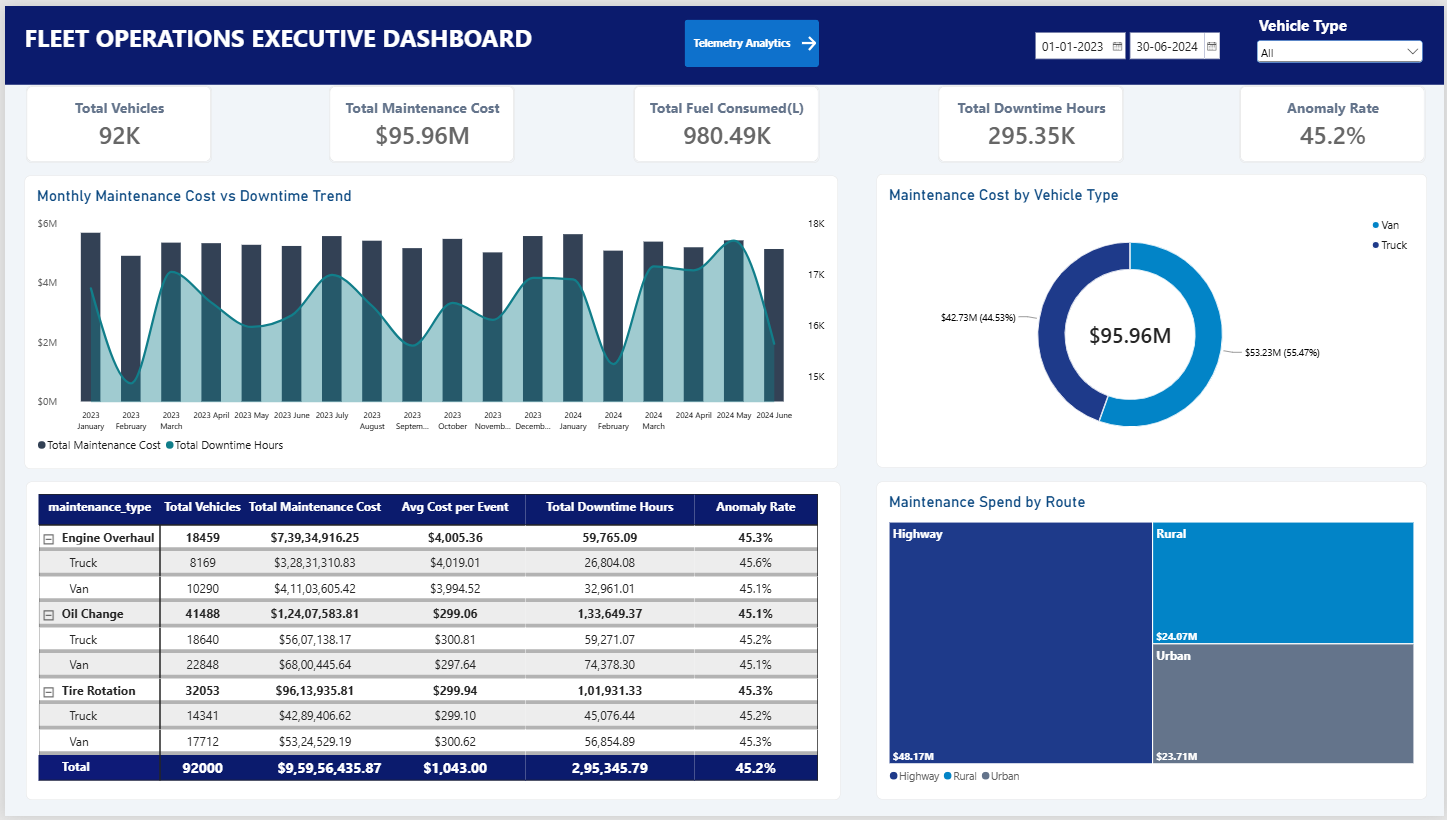

The dashboard page shown, as its layout file describes it:
{"tool":"powerbi","page":{"name":"Executive Summary","canvas":[1920,1080],"ordinal":0},"visuals":[{"type":"shape","box":[0,0,1920,105],"z":0},{"type":"textbox","box":[26.4,20.3,827.3,60.8],"z":1000},{"type":"slicer","fields":{"Values":["Dim_Vehicle.vehicle_type"]},"box":[1664.6,12.2,231.1,81.1],"z":2000},{"type":"slicer","fields":{"Values":["Fact_Fleet_Operations.last_maintenance_date"]},"box":[1365.1,29.5,281.6,52.2],"z":3000},{"type":"cardVisual","title":"Total Vehicles","fields":{"Data":["'_Measures'.Total Events"]},"box":[27.3,106.1,248.2,103.6],"z":4000},{"type":"cardVisual","fields":{"Data":["'_Measures'.Total Downtime Hours"]},"box":[1243.2,106.1,248.2,103.6],"z":5000},{"type":"cardVisual","fields":{"Data":["'_Measures'.Total Maintenance Cost"]},"box":[432.6,106.1,248.2,103.6],"z":6000},{"type":"cardVisual","fields":{"Data":["'_Measures'.Total Fuel Consumed(L)"]},"box":[837.9,106.1,248.2,103.6],"z":7000},{"type":"cardVisual","fields":{"Data":["'_Measures'.Anomaly Rate"]},"box":[1646.7,106.8,248.2,103.6],"z":8000},{"type":"lineClusteredColumnComboChart","title":"Monthly Maintenance Cost vs Downtime Trend","fields":{"Category":["Fact_Fleet_Operations.last_maintenance_date.Variation.Date Hierarchy.Year","Fact_Fleet_Operations.last_maintenance_date.Variation.Date Hierarchy.Month"],"Y":["'_Measures'.Total Maintenance Cost"],"Y2":["'_Measures'.Total Downtime Hours"]},"box":[26.4,225.1,1084.8,391.3],"z":9000},{"type":"donutChart","title":"Maintenance Cost by Vehicle Type","fields":{"Category":["Dim_Vehicle.vehicle_type"],"Y":["'_Measures'.Total Maintenance Cost"]},"box":[1162.9,224.9,734,391.3],"z":10000},{"type":"pivotTable","fields":{"Values":["'_Measures'.Total Vehicles","'_Measures'.Total Maintenance Cost","'_Measures'.Avg Cost per Event","'_Measures'.Total Downtime Hours","'_Measures'.Anomaly Rate"],"Rows":["Fact_Fleet_Operations.maintenance_type","Dim_Vehicle.vehicle_type"]},"box":[27.3,633.7,1085.7,424.7],"z":11000},{"type":"treemap","title":"Maintenance Spend by Route","fields":{"Group":["Fact_Fleet_Operations.route_info"],"Values":["'_Measures'.Total Maintenance Cost"]},"box":[1161.8,634.6,734,423.8],"z":12000},{"type":"actionButton","box":[906.3,18.2,179.4,63.6],"z":13000}]}

Visuals, with their boxes in screenshot pixels (x1, y1, x2, y2), scaled from the page's 1920x1080 canvas onto the 1447x820 screenshot:
shape: x1=0 y1=0 x2=1446 y2=80
textbox: x1=20 y1=15 x2=643 y2=62
slicer - Dim_Vehicle.vehicle_type: x1=1255 y1=9 x2=1429 y2=71
slicer - Fact_Fleet_Operations.last_maintenance_date: x1=1029 y1=22 x2=1241 y2=62
"Total Vehicles" cardVisual: x1=21 y1=81 x2=208 y2=159
cardVisual - '_Measures'.Total Downtime Hours: x1=937 y1=81 x2=1124 y2=159
cardVisual - '_Measures'.Total Maintenance Cost: x1=326 y1=81 x2=513 y2=159
cardVisual - '_Measures'.Total Fuel Consumed(L): x1=631 y1=81 x2=819 y2=159
cardVisual - '_Measures'.Anomaly Rate: x1=1241 y1=81 x2=1428 y2=160
"Monthly Maintenance Cost vs Downtime Trend" lineClusteredColumnComboChart: x1=20 y1=171 x2=837 y2=468
"Maintenance Cost by Vehicle Type" donutChart: x1=876 y1=171 x2=1430 y2=468
pivotTable - '_Measures'.Total Vehicles x '_Measures'.Total Maintenance Cost: x1=21 y1=481 x2=839 y2=804
"Maintenance Spend by Route" treemap: x1=876 y1=482 x2=1429 y2=804
actionButton: x1=683 y1=14 x2=818 y2=62
